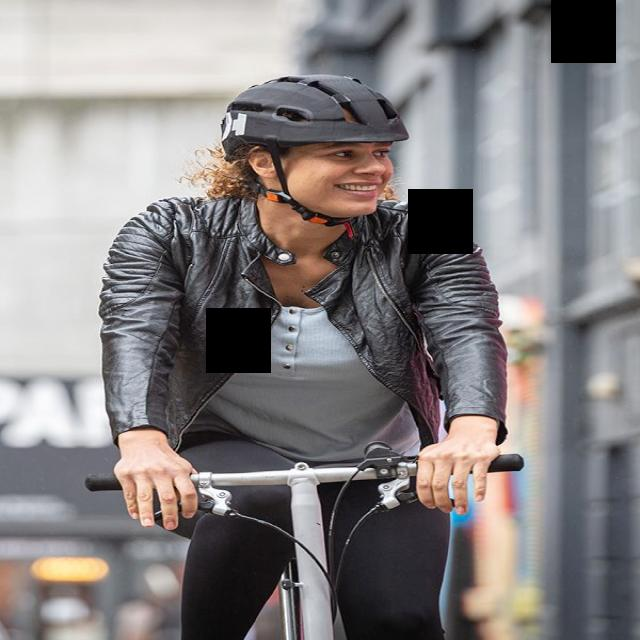Helmet: (222, 73, 412, 215)
